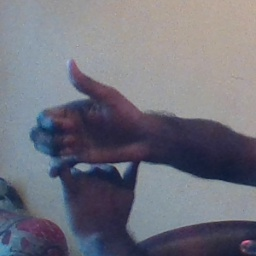S: (22, 55, 157, 203)
